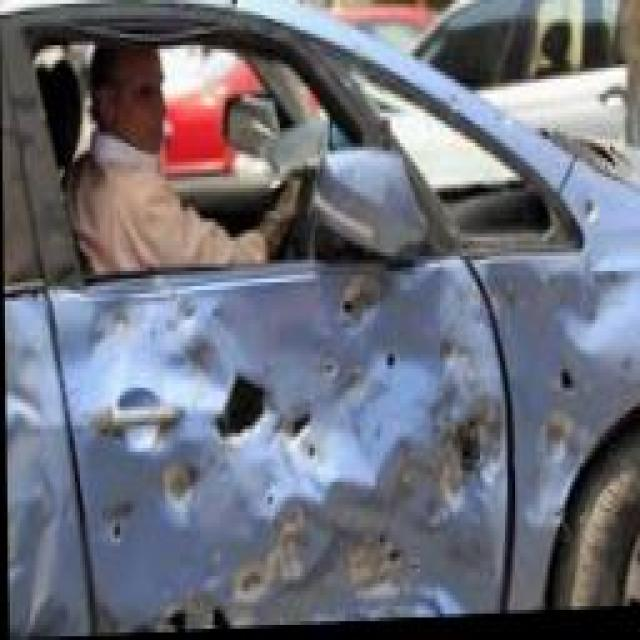replaceable: (7, 282, 637, 580), (27, 15, 357, 245), (390, 97, 588, 274)
